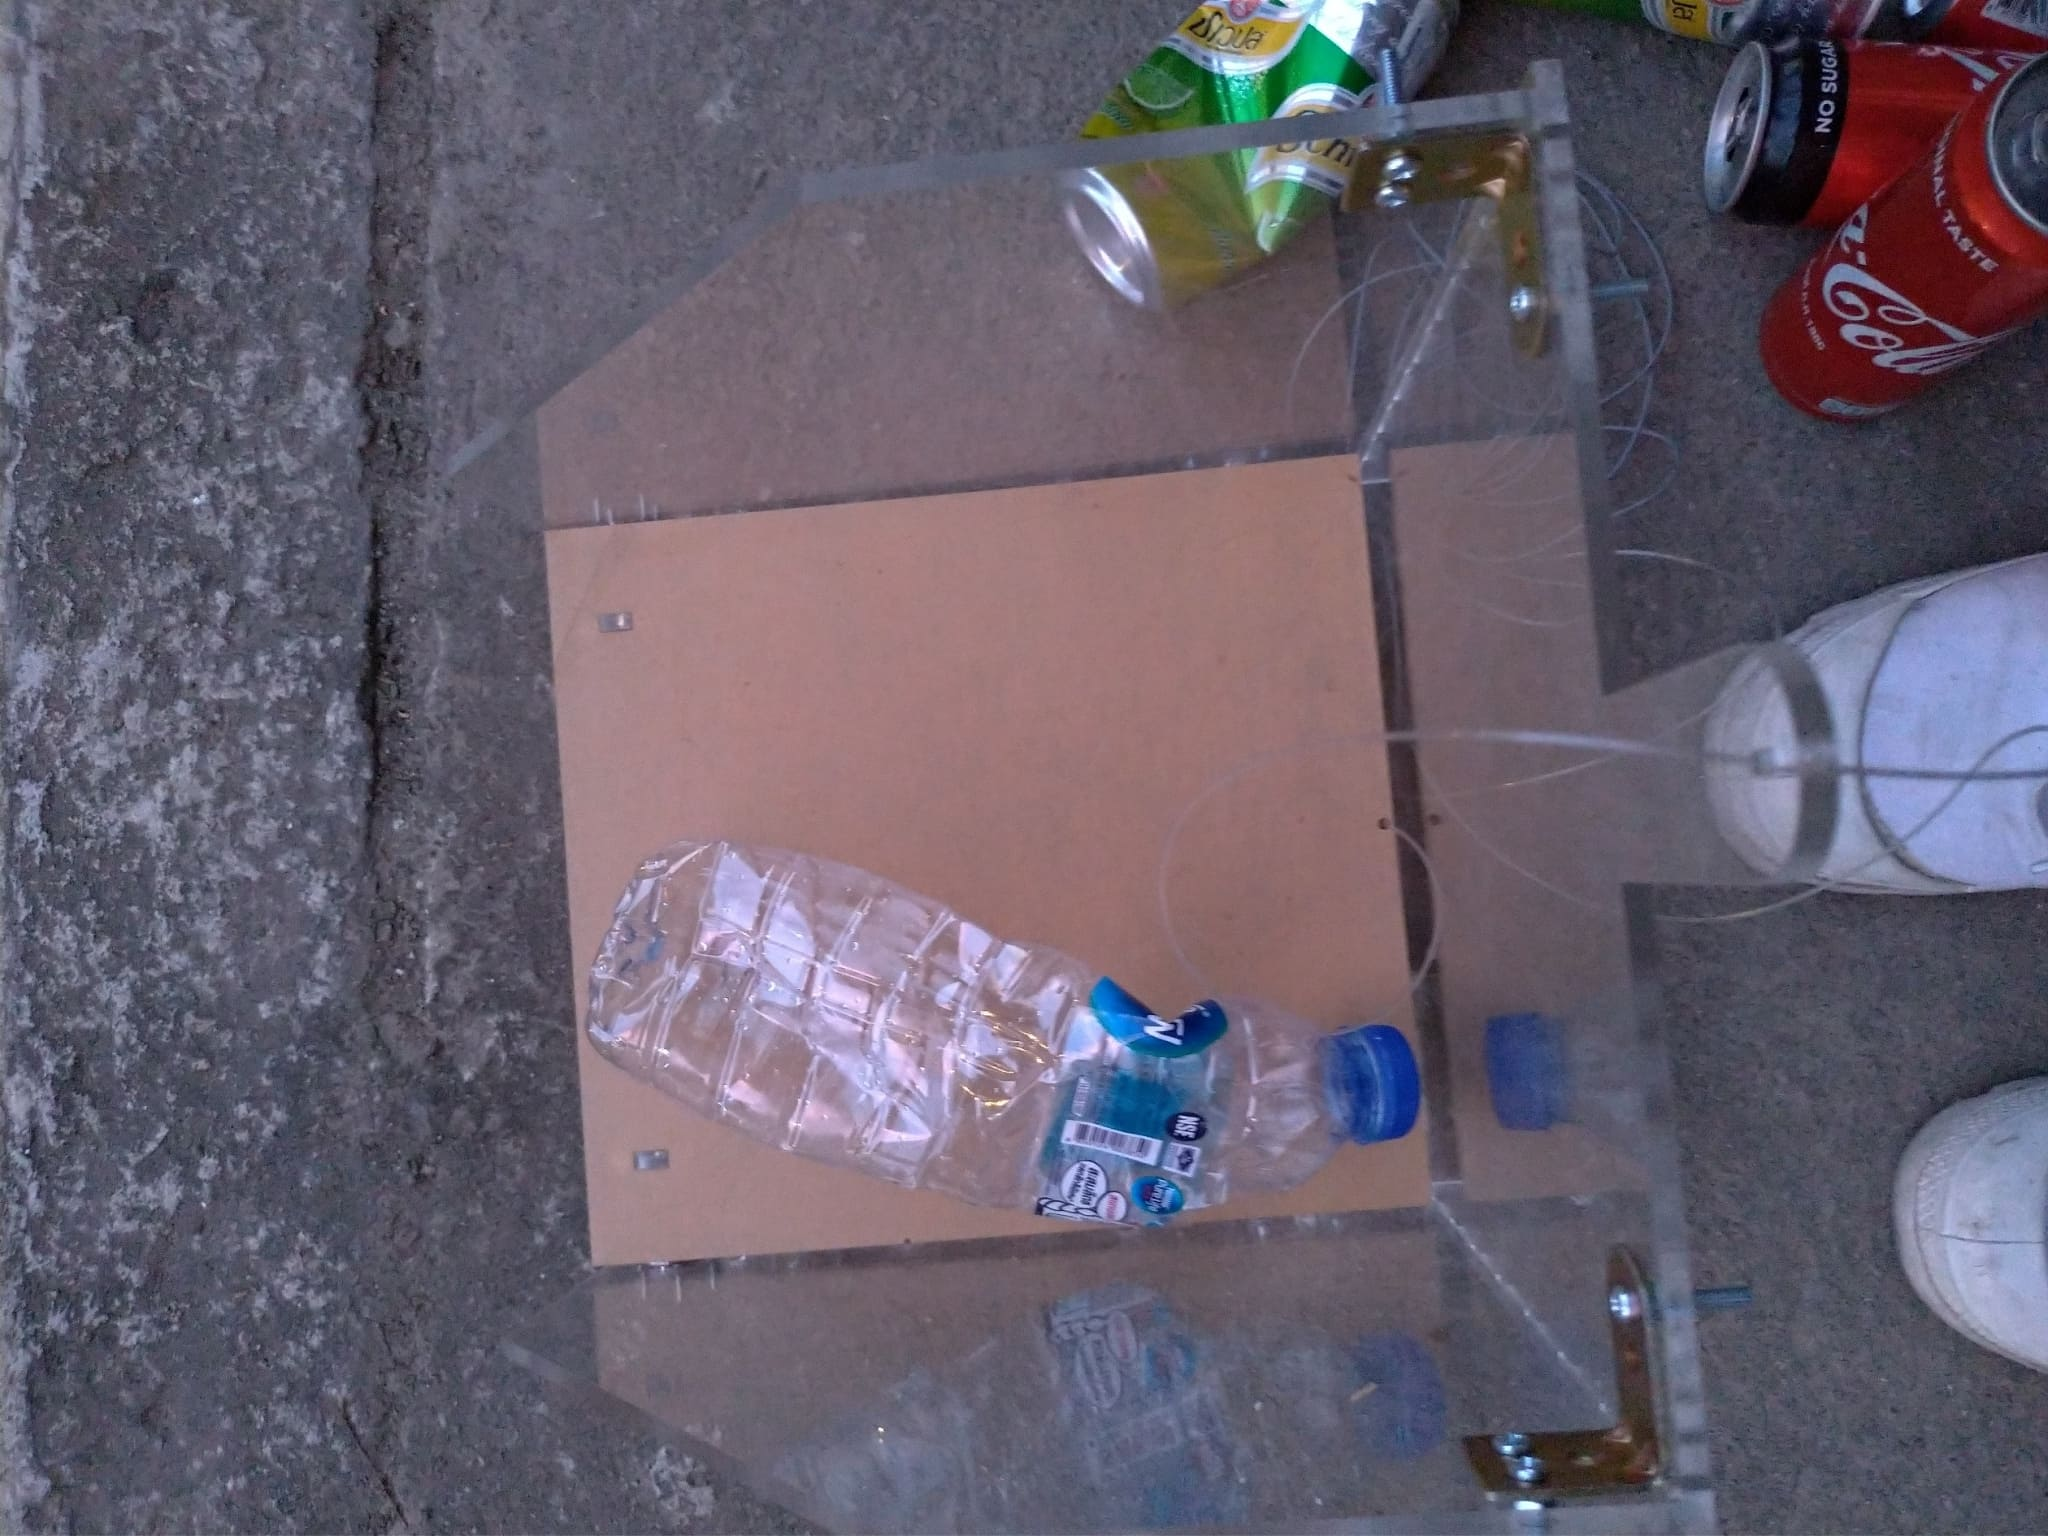AlCan: (1050, 2, 1456, 315), (1763, 60, 2048, 421), (1706, 26, 2048, 231)
PlasticBottle: (581, 837, 1426, 1221)
